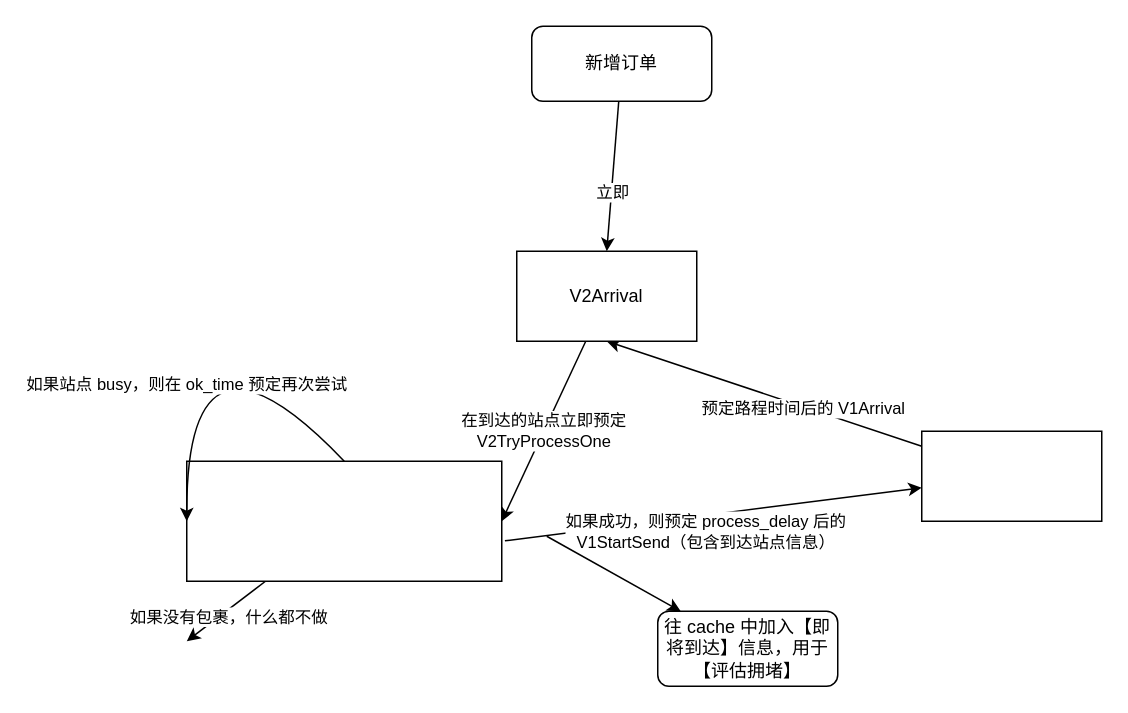
Image size: 1128x713. Some labels were removed from this diagram. Each missing label, with the centre of its shape:
"V1StartSend" goes at point (1011, 475).
"V2TryProcessOne 寻找当前站点到终点的【带拥堵评估】最短路" goes at point (343, 520).
